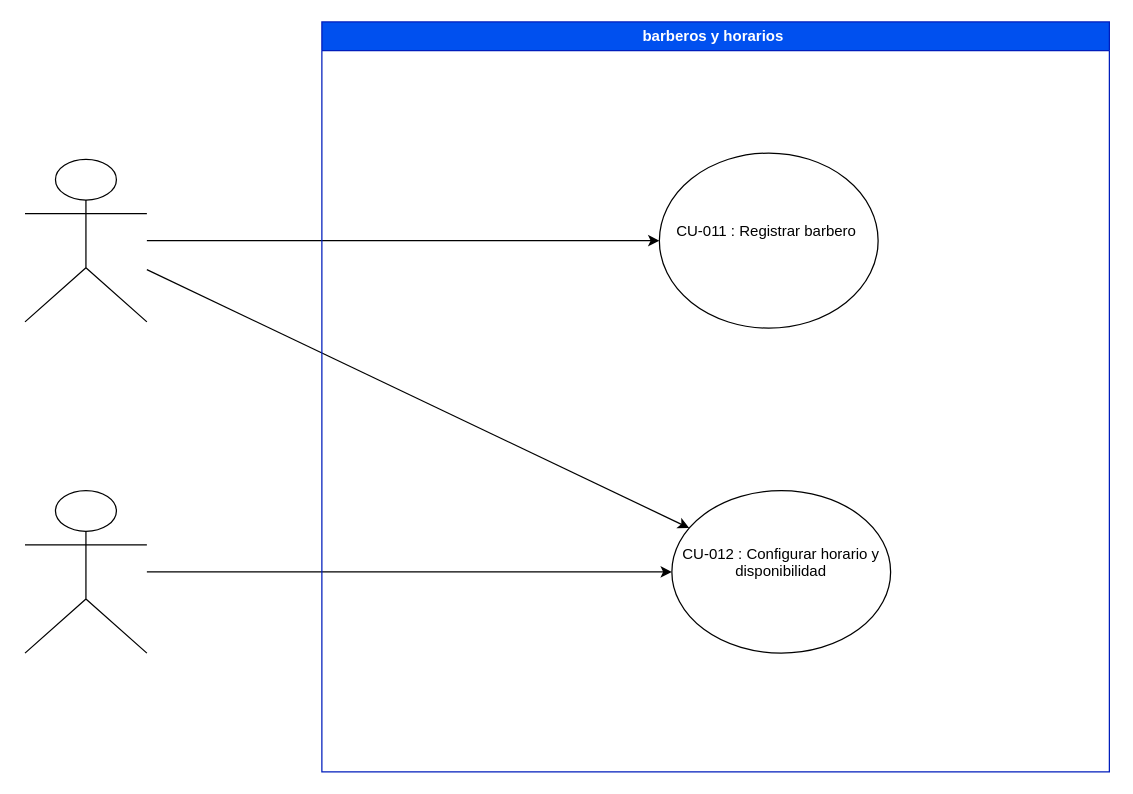
Image size: 1133x794. Some labels were removed from this diagram. The centre of each missing label's shape, as x and y in pixels:
"ADMINISTRADOR" belongs at (85,240).
"BARBEROS" belongs at (85,571).
